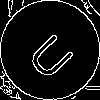U: (25, 25, 83, 83)
